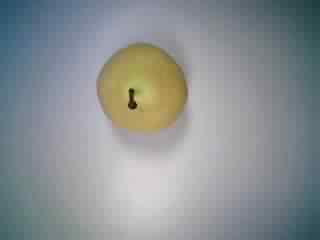pear: (84, 34, 191, 146)
